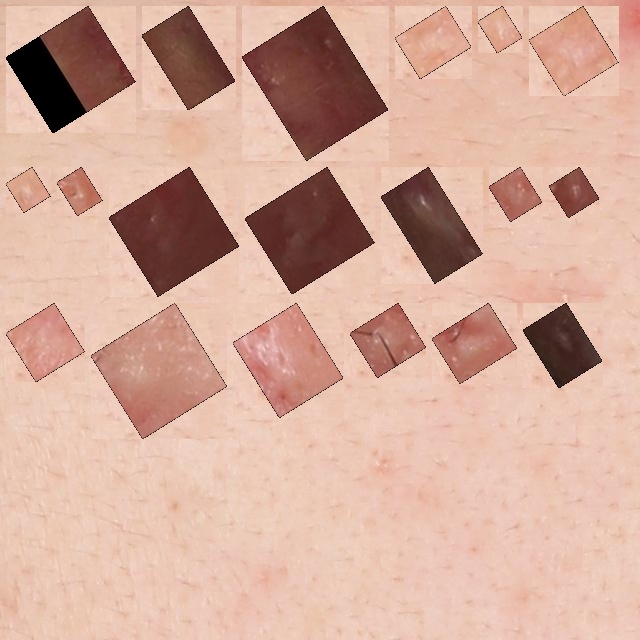hypertrophic_scar: (253, 17, 377, 149), (102, 314, 216, 428), (120, 178, 228, 285), (17, 17, 124, 122), (256, 178, 363, 283), (244, 314, 332, 406), (392, 178, 472, 272), (153, 17, 224, 99), (540, 17, 607, 85), (443, 314, 506, 372), (17, 314, 74, 371), (361, 314, 415, 366), (406, 17, 460, 67), (500, 178, 531, 210), (560, 178, 588, 206), (68, 178, 91, 204), (489, 17, 511, 42), (17, 178, 39, 201)
pustule: (534, 314, 591, 377)
